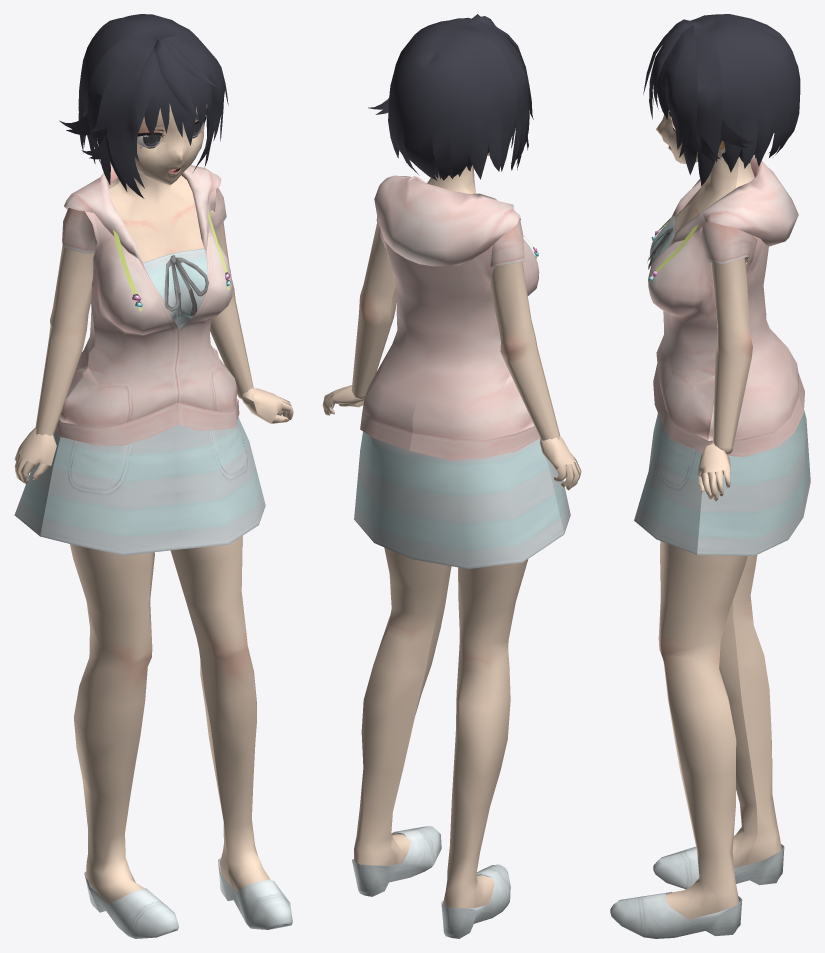
Rendered from girl.glb.
3 views of the same model, side by side, from view 1: azimuth 30°, elevation 25°; view 2: azimuth 150°, elevation 25°; view 3: azimuth 270°, elevation 25° (orthographic). The views are drawn at different scales.
Parts seen in each view (by area): view 1: girl; view 2: girl; view 3: girl.
Boxes of the visible parts, <box> form: girl: <box>14,14,293,938</box>; girl: <box>322,14,581,938</box>; girl: <box>610,14,810,938</box>.
Size of the model in its own units: 0.4831 by 1.55 by 0.3237.
Materials: 6 (3 with a texture image).
